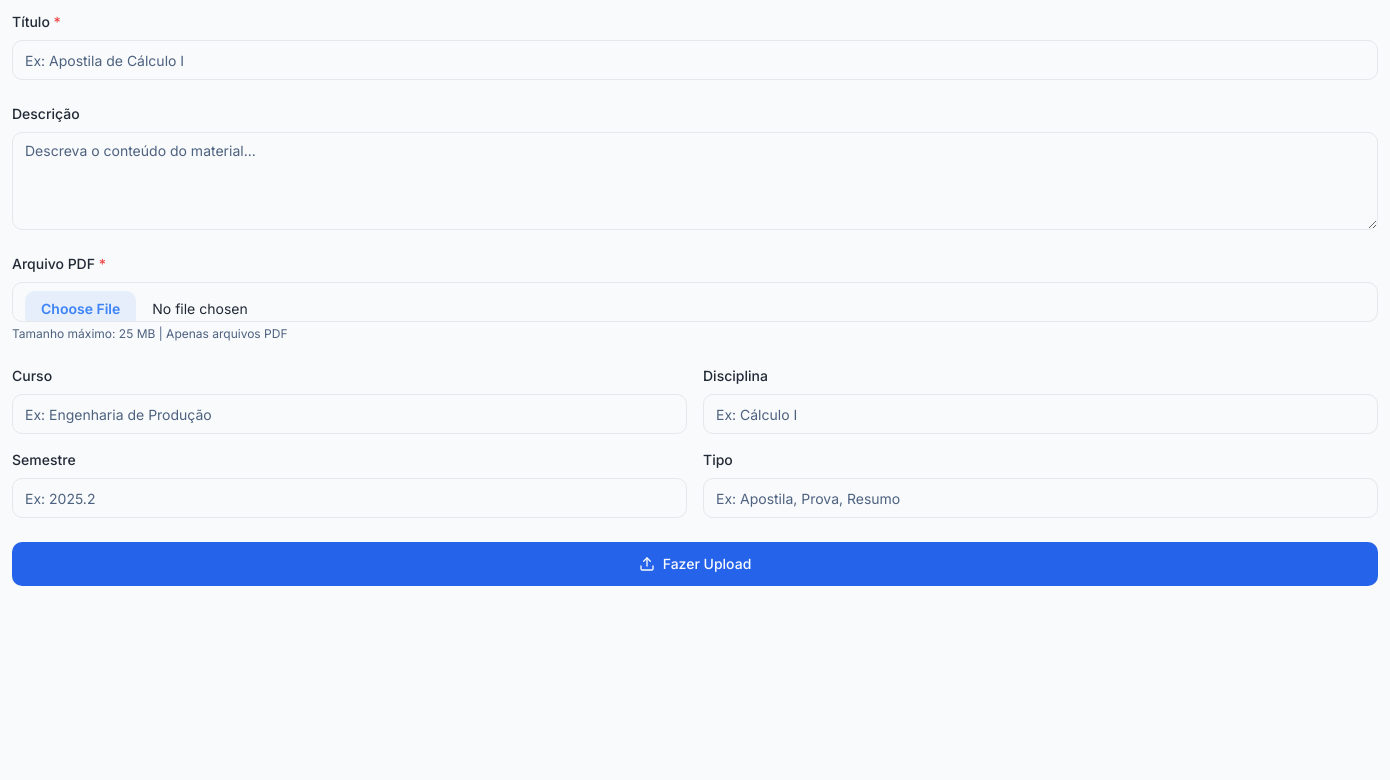
UploadForm › deve exibir erro quando arquivo não é selecionado
Type "Teste" into the field labelled "Título *" at (695, 60), box left=12, top=40, right=1378, bottom=80
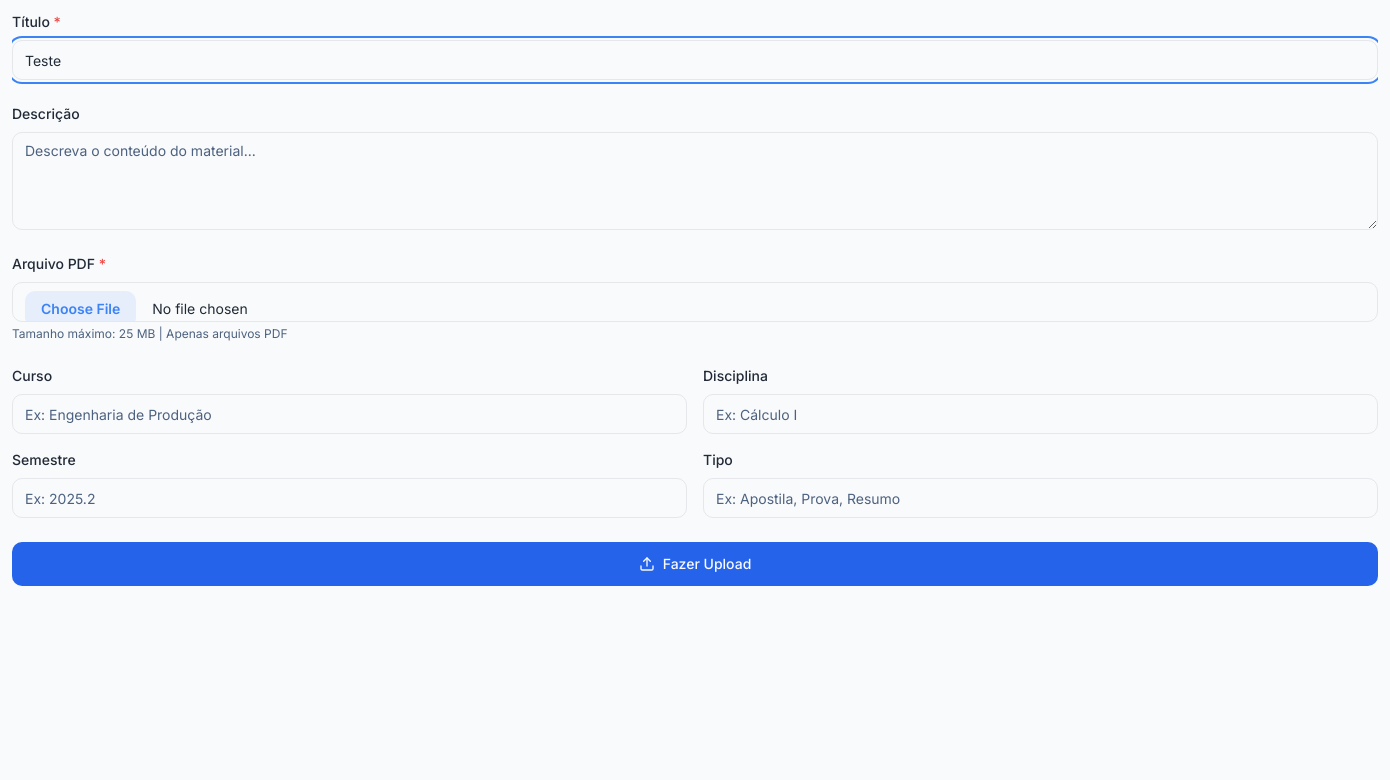
Click the button "Fazer Upload" at (695, 564), box left=12, top=542, right=1378, bottom=586
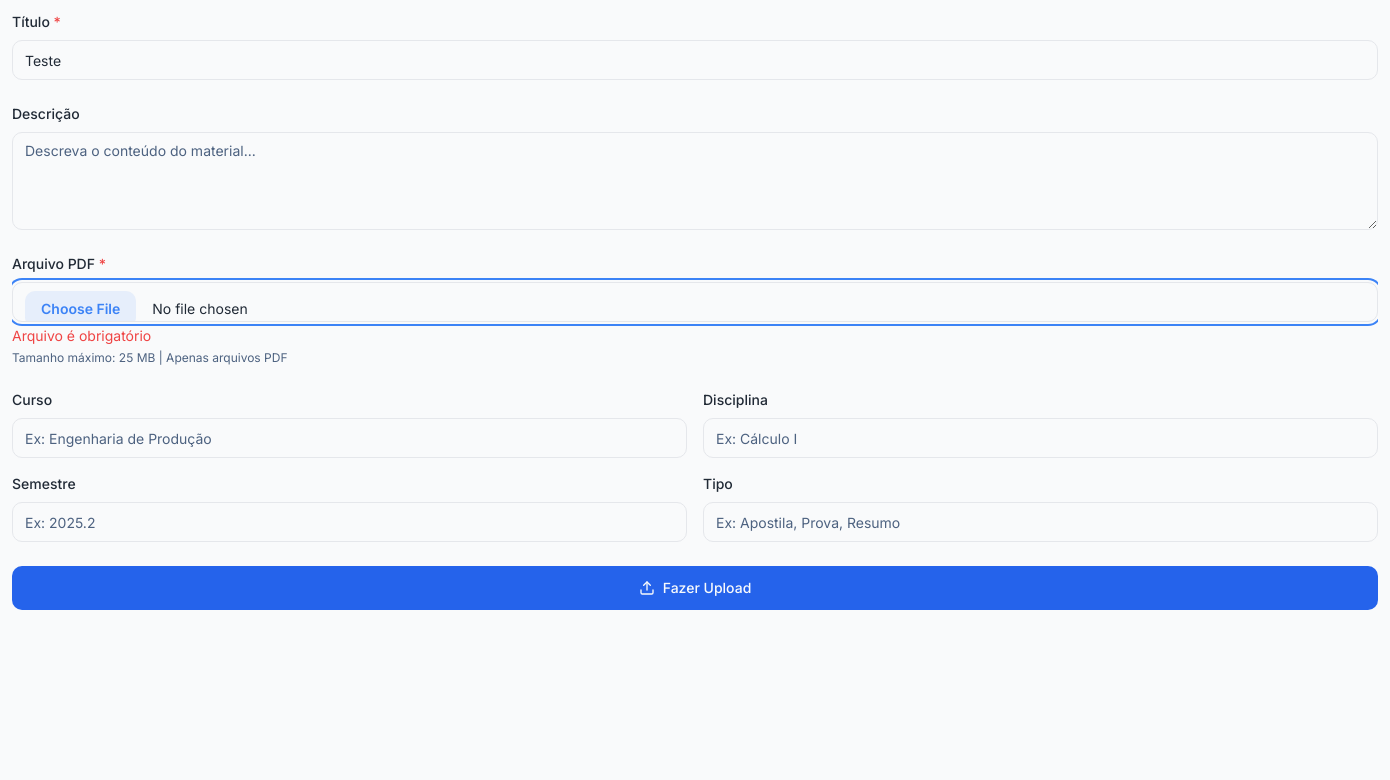
Result: the text "Arquivo é obrigatório" is shown at left=12, top=327, right=151, bottom=344
